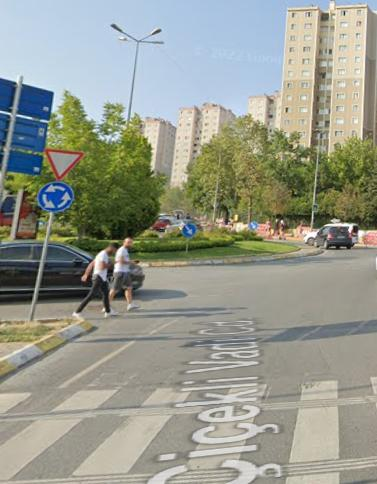crossroads: (36, 182, 74, 210)
